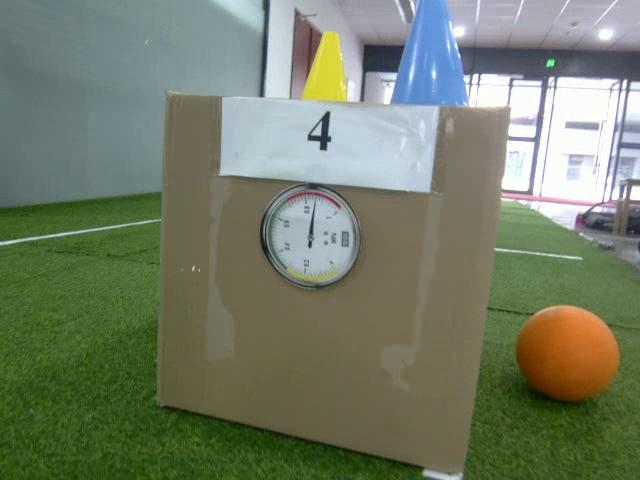4: (304, 108, 334, 156)
Dashboard: (259, 184, 361, 292)
blue_barrel: (386, 0, 475, 106)
orange_ball: (516, 303, 621, 403)
ssi: (339, 230, 350, 248)
yellow_barrel: (298, 31, 354, 102)
